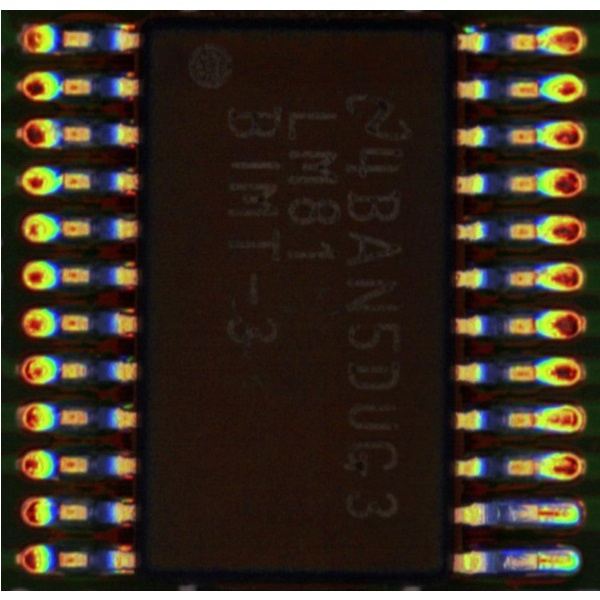Bad_podu: (530, 554, 550, 569), (527, 507, 550, 520)
